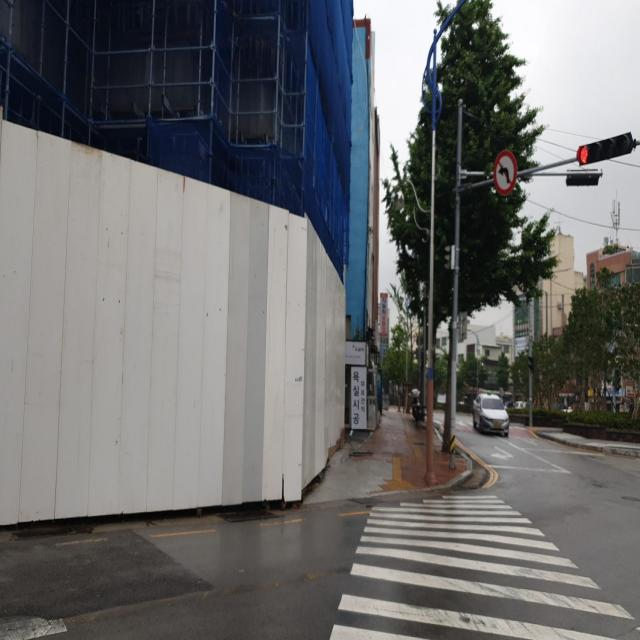횡단보도: (328, 491, 636, 639)
